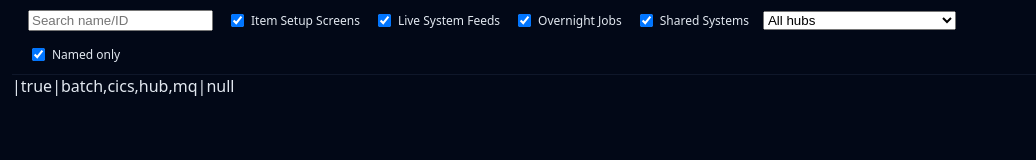
Test: FilterBar › unchecking a category checkbox updates FilterContext categories
Click the checkbox labelled "Item Setup Screens": [238, 20] box [231,14,244,27]
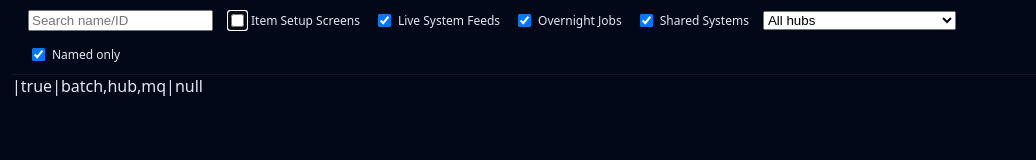
Expected: the text with test id "probe" shows "batch,hub,mq", [61,75,166,97]
